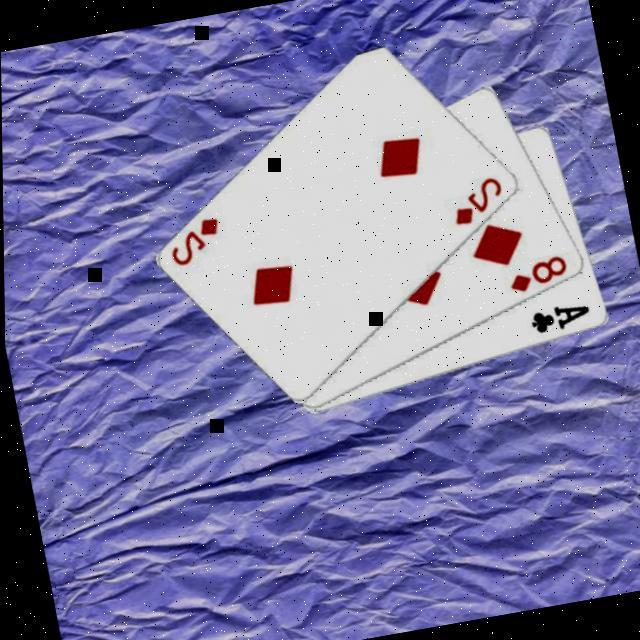2D: (444, 174, 510, 231), (162, 215, 228, 272)
8D: (501, 252, 572, 299)
AC: (524, 299, 593, 340)
